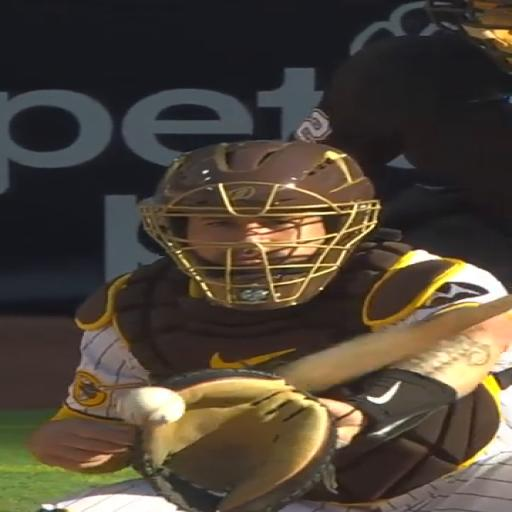bat: (276, 295, 511, 391)
